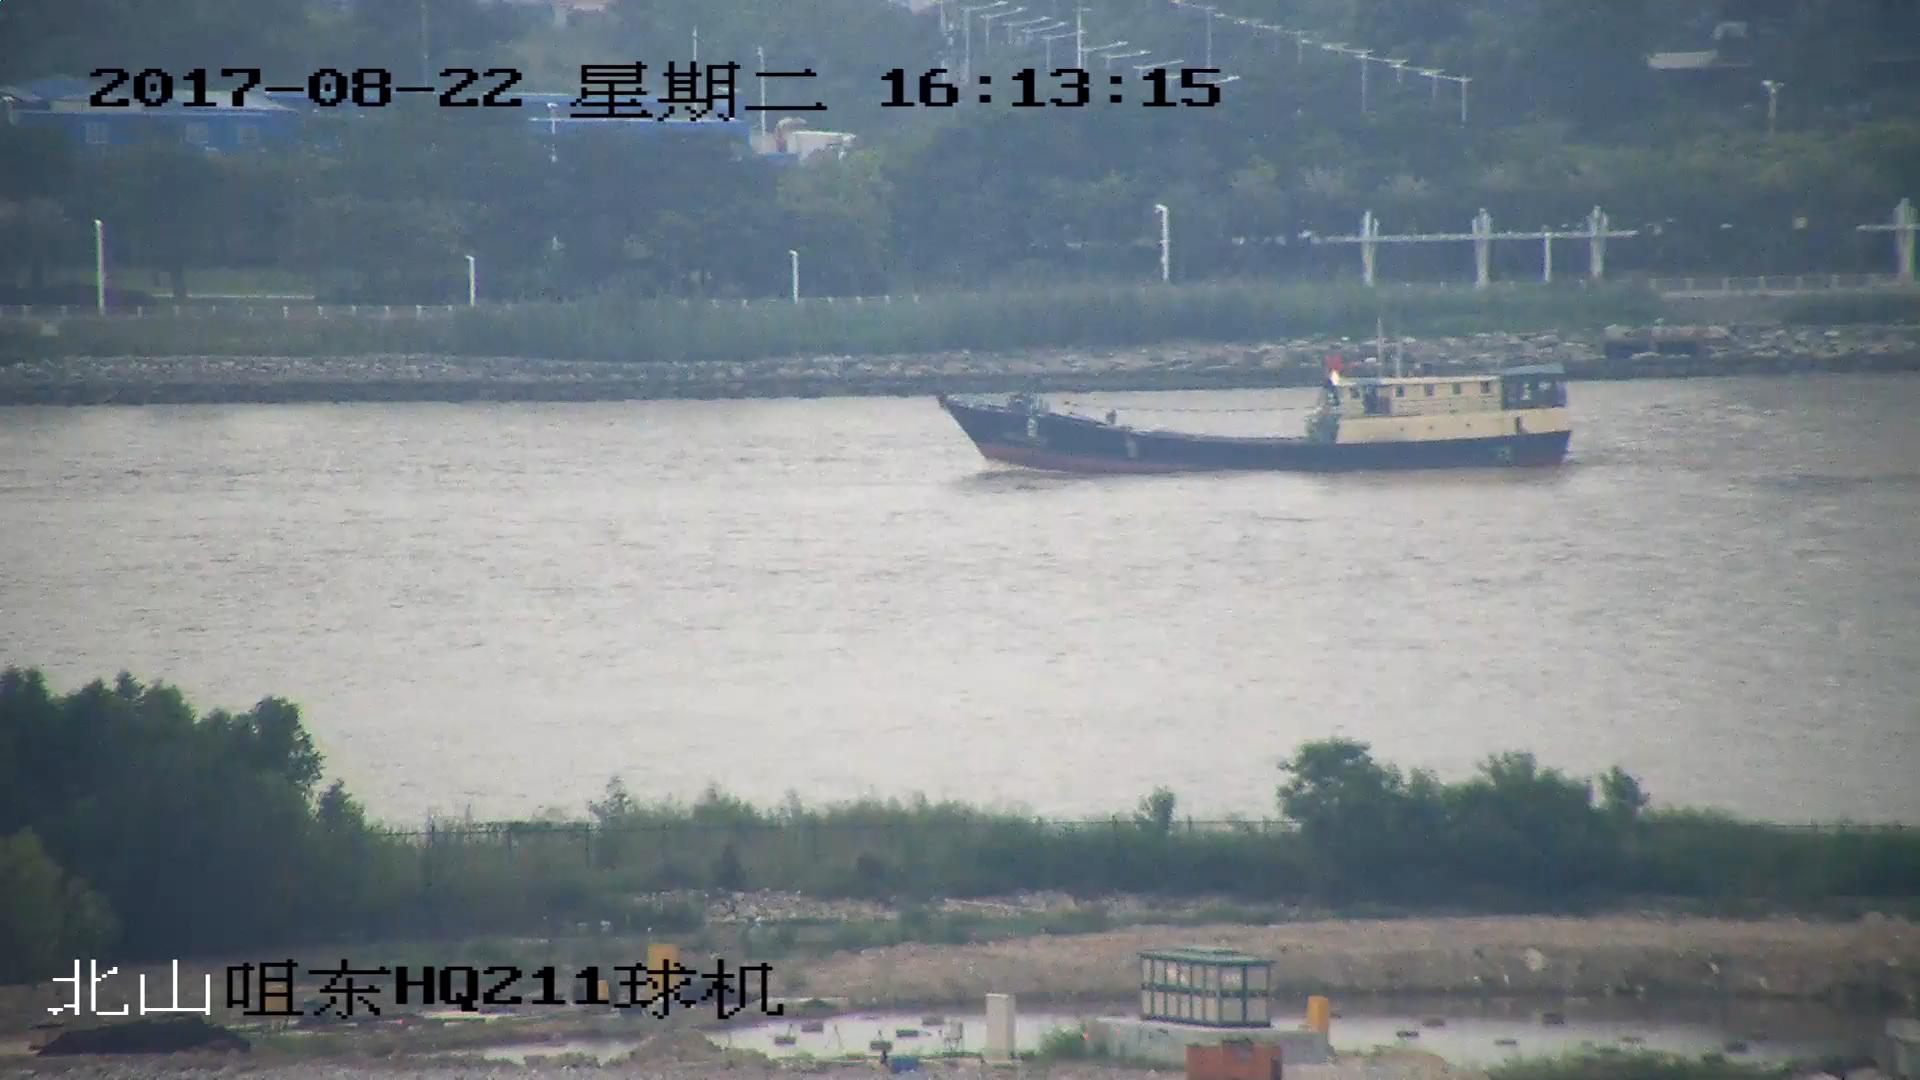fishing boat: (940, 334, 1573, 472)
